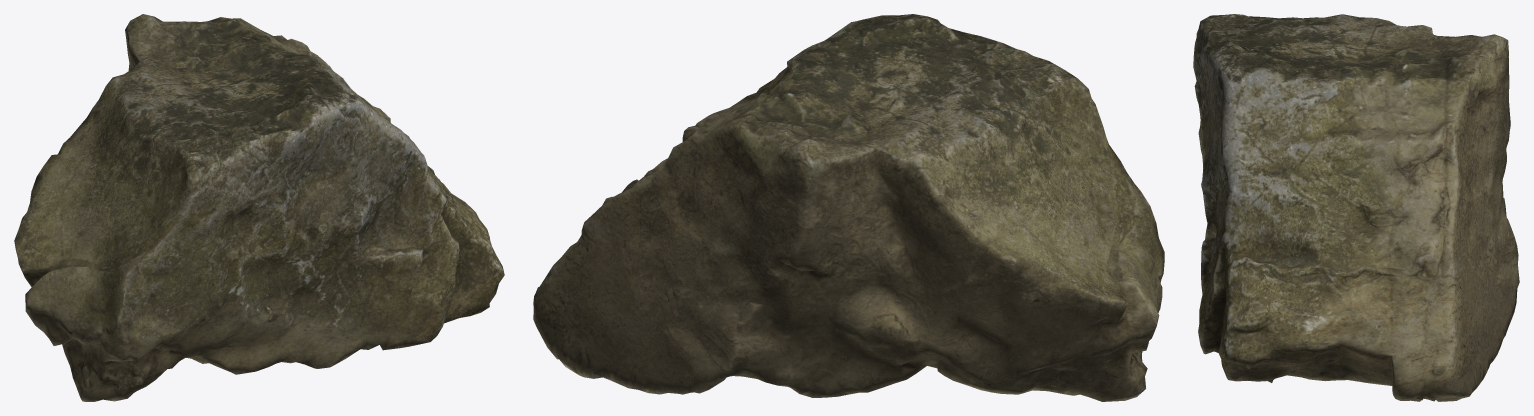
The model's file is Rock7.fbx.
3 renders of one model, left to right at view 1: azimuth 30°, elevation 25°; view 2: azimuth 150°, elevation 25°; view 3: azimuth 270°, elevation 25°, orthographic. The views are drawn at different scales.
Visible parts, largest first — view 1: moss rock 14; view 2: moss rock 14; view 3: moss rock 14.
Boxes of the visible parts, x1=… form: moss rock 14: x1=14, y1=14, x2=504, y2=401; moss rock 14: x1=533, y1=14, x2=1164, y2=401; moss rock 14: x1=1193, y1=14, x2=1519, y2=401.
Bounding box in the file's own units: 209 × 114 × 126.
